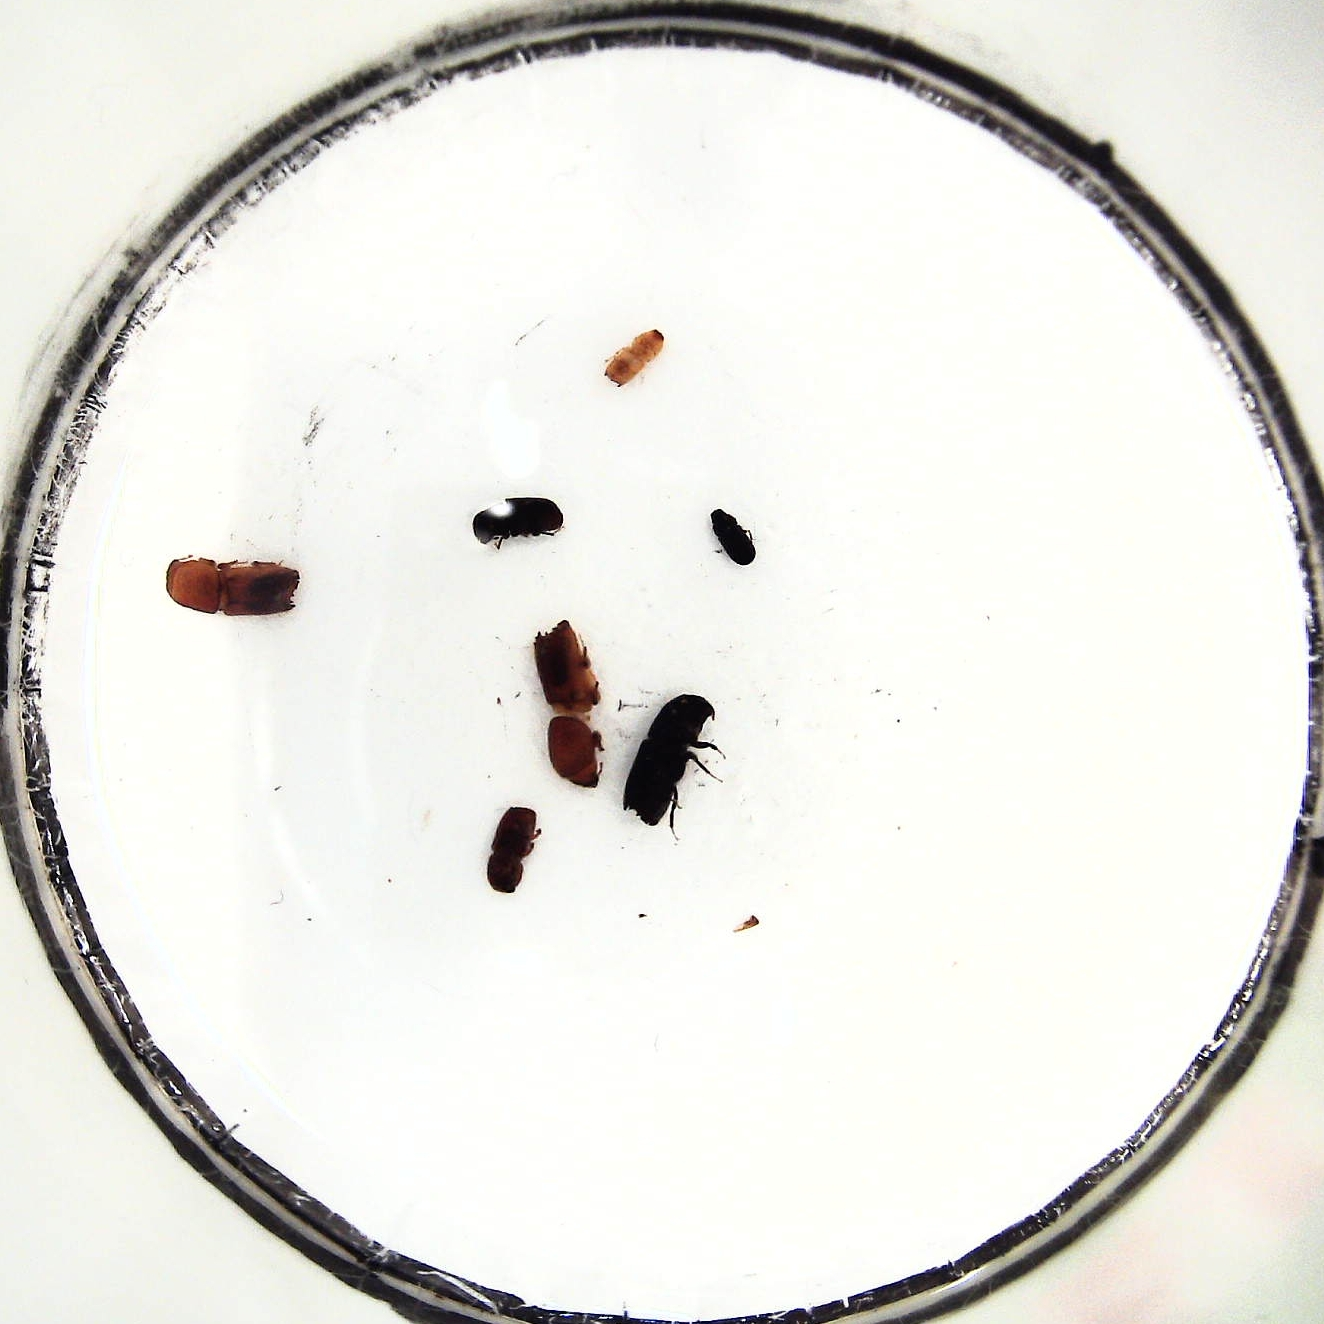Boerner: (531, 618, 606, 792), (623, 694, 718, 826), (162, 557, 299, 623)
Linnaeus: (485, 805, 540, 898)
acuminatus: (603, 323, 667, 390)
armandi: (467, 495, 565, 552)
coleoptera: (706, 506, 760, 570)
